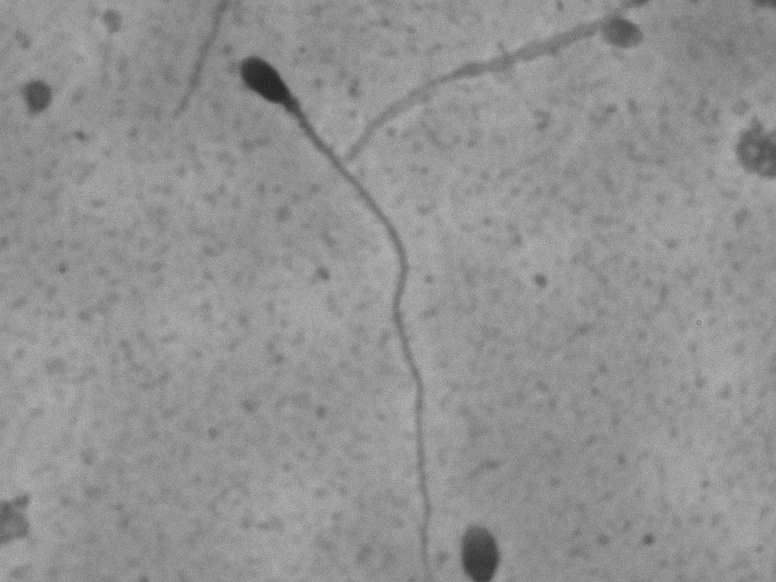Abnormal: (225, 44, 441, 571)
